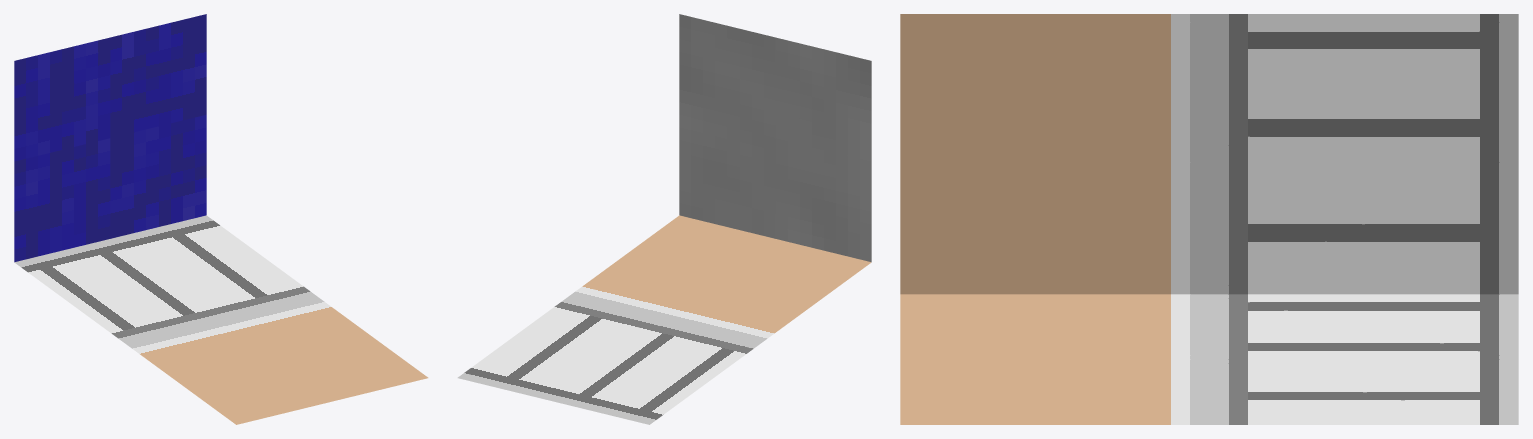
The model's file is Corner.gltf.
3 renders of one model, left to right at view 1: azimuth 30°, elevation 25°; view 2: azimuth 150°, elevation 25°; view 3: azimuth 270°, elevation 25°, orthographic. The views are drawn at different scales.
Visible parts, largest first — view 1: Corner; view 2: Corner; view 3: Corner.
Part boxes in pixels (bbox=[...]): Corner: bbox=[14, 14, 428, 424]; Corner: bbox=[457, 14, 871, 424]; Corner: bbox=[900, 14, 1518, 424].
Size of the model in its own units: 1 by 1 by 2.
3 materials, 3 textured.
